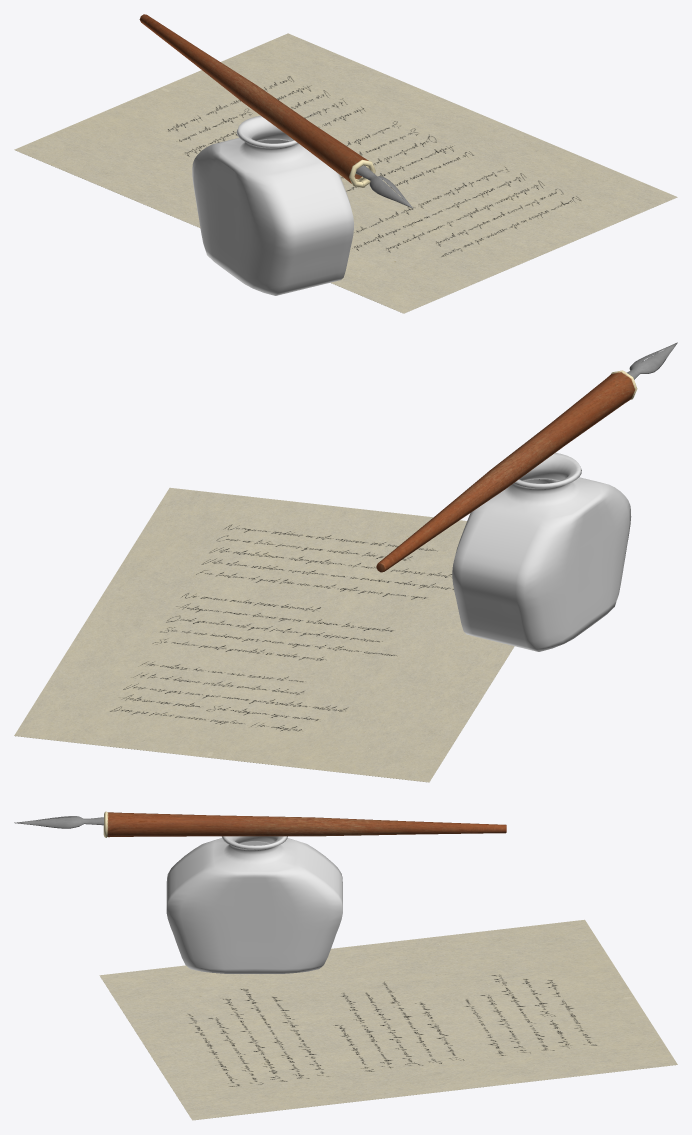
The model's file is Pen, Paper and Inkpot.fbx.
3 renders of one model, top to bottom at view 1: azimuth 30°, elevation 25°; view 2: azimuth 150°, elevation 25°; view 3: azimuth 270°, elevation 25°, orthographic. The views are drawn at different scales.
Visible parts, largest first — view 1: Paper, Inkpot, Fountain Pen, Feather; view 2: Paper, Inkpot, Fountain Pen, Feather; view 3: Paper, Inkpot, Fountain Pen, Feather.
Part boxes in pixels (x1,y1,x2,y2): Paper: [14, 33, 677, 313]; Inkpot: [192, 115, 353, 295]; Fountain Pen: [139, 14, 375, 187]; Feather: [356, 165, 413, 208]; Paper: [14, 487, 514, 782]; Inkpot: [452, 452, 631, 651]; Fountain Pen: [376, 370, 637, 572]; Feather: [627, 342, 677, 379]; Paper: [99, 919, 677, 1120]; Inkpot: [166, 836, 342, 973]; Fountain Pen: [103, 811, 506, 837]; Feather: [14, 816, 103, 828].
Bounding box in the file's own units: 482 × 164 × 673.
Materials: 6 (4 with a texture image).
